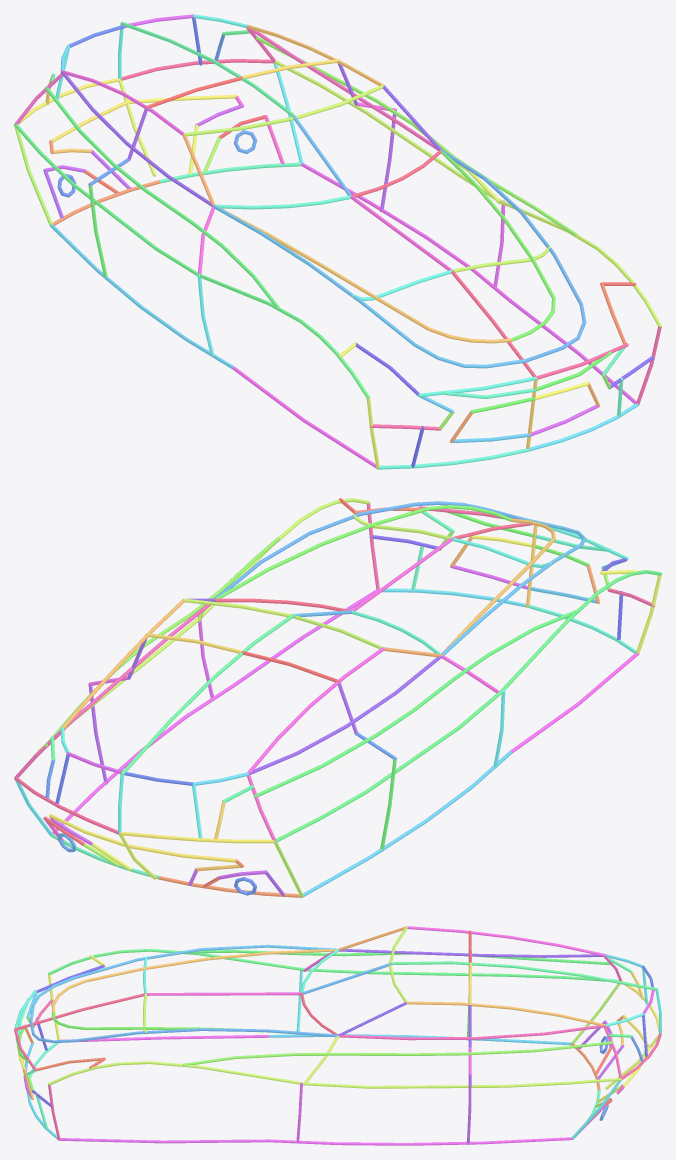
File: ils_car1.gltf
3 renders of one model, top to bottom at view 1: azimuth 30°, elevation 25°; view 2: azimuth 150°, elevation 25°; view 3: azimuth 270°, elevation 25°, orthographic. The views are drawn at different scales.
Bounding box in the file's own units: 0.3855 × 0.2024 × 0.9062.
